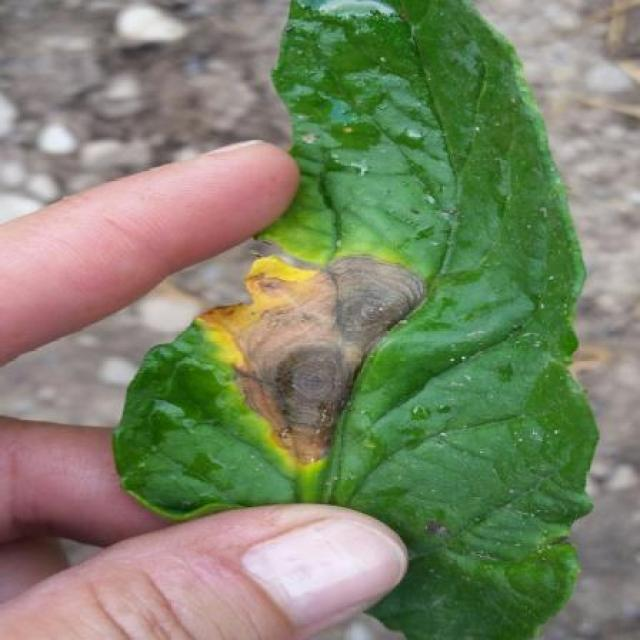Early Blight: (119, 0, 602, 637)
